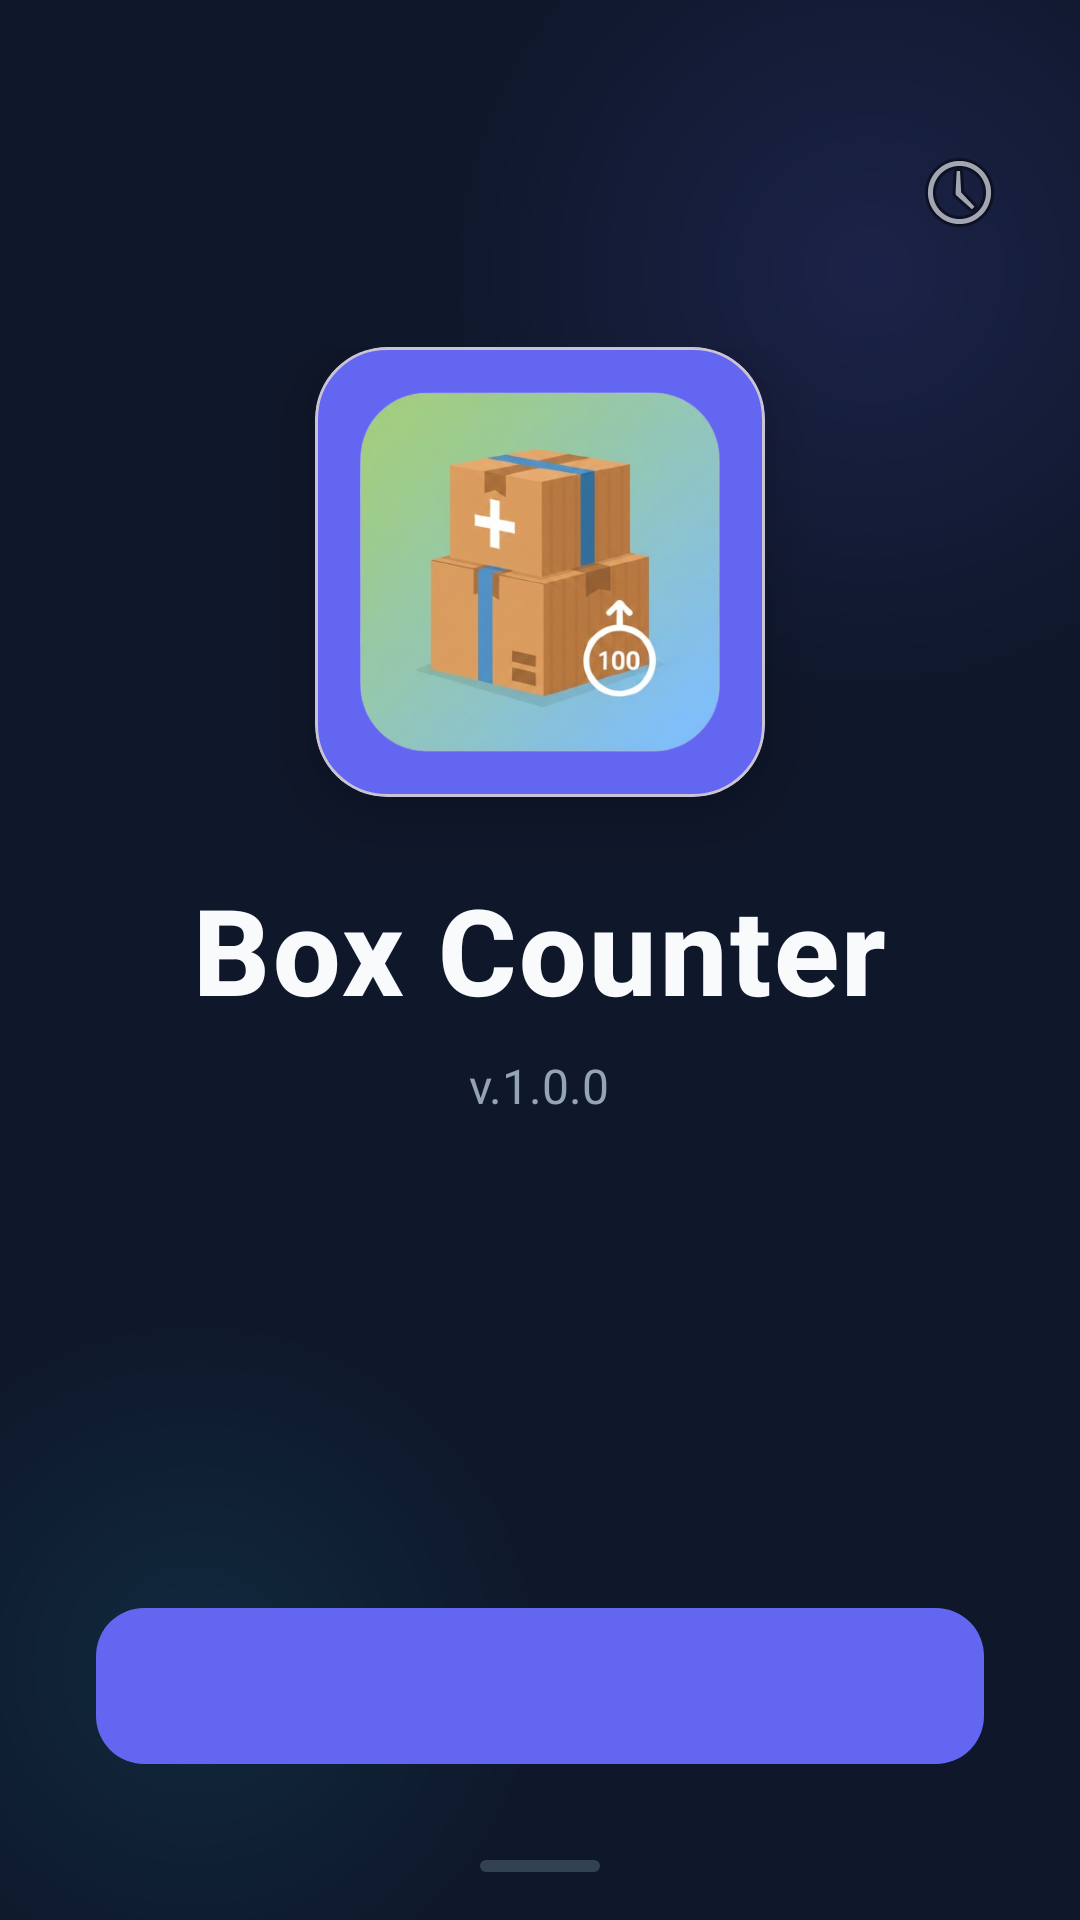

Screen size 1080px x 1920px. Icon name, then its box in pixels as (x1,y1,x2,y2):
Historial: (927,158,994,225)
